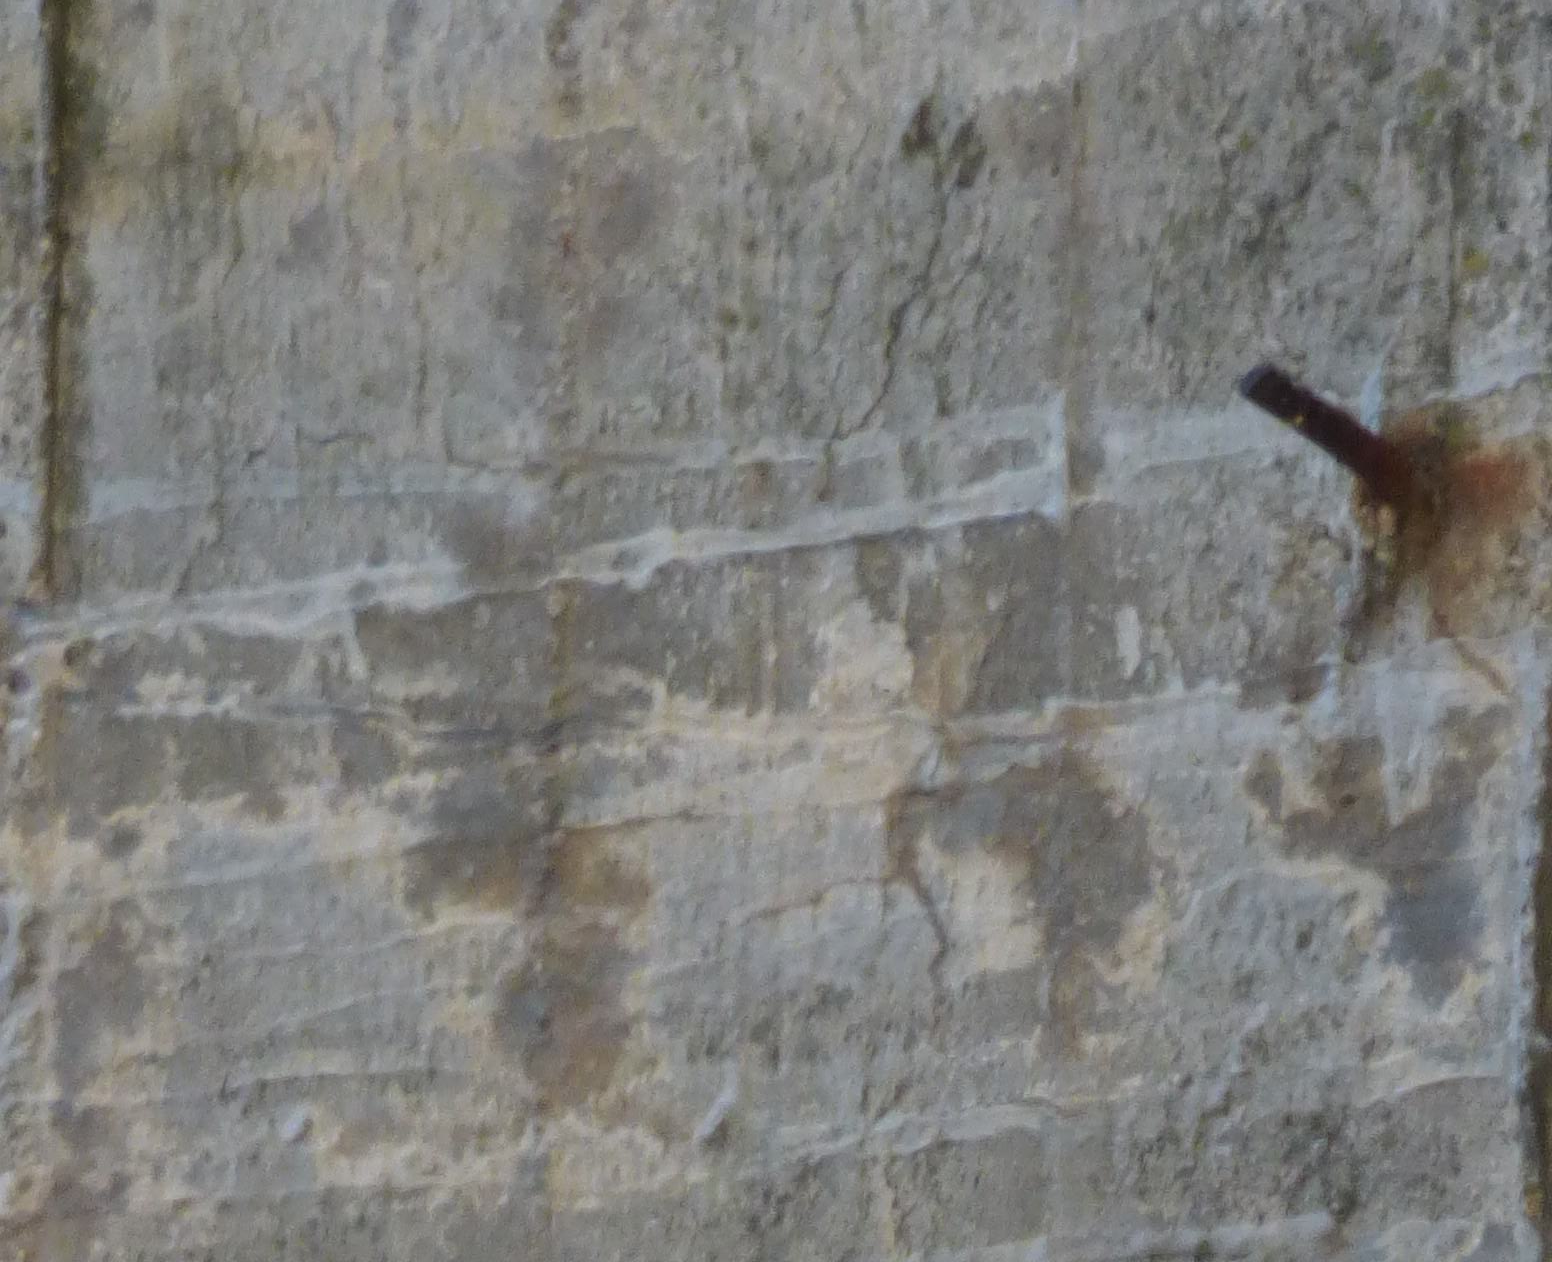Exposed reinforcement: (1236, 362, 1414, 501)
